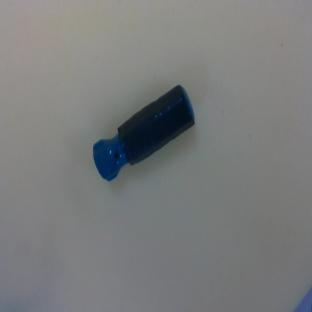part_2_bad: (83, 83, 204, 184)
